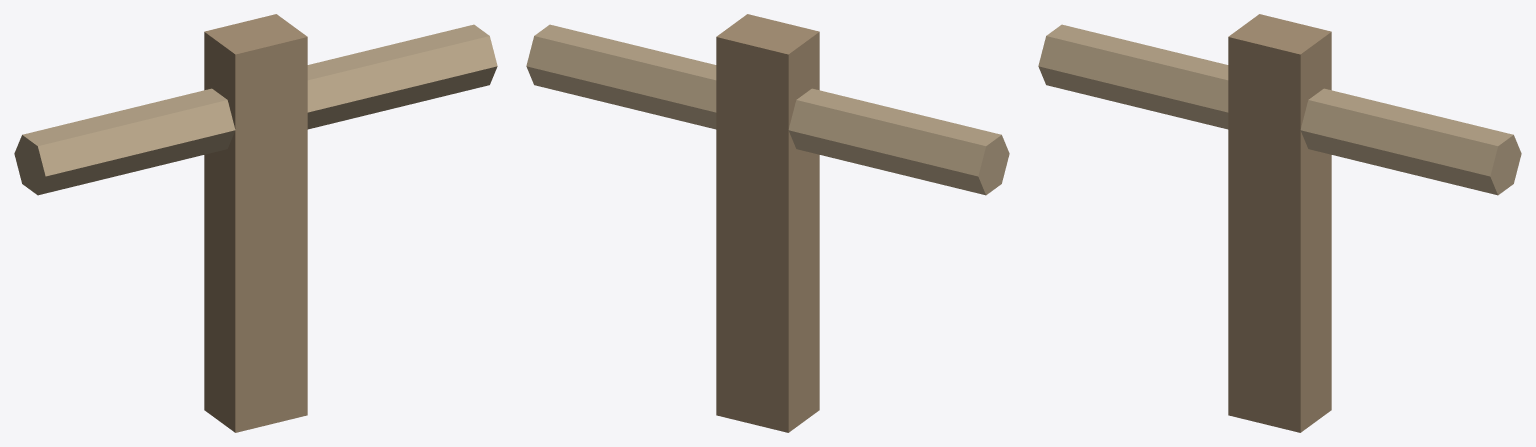
File: latchbow.glb
The picture shows the model from 3 angles, left to right: view 1: azimuth 30°, elevation 25°; view 2: azimuth 150°, elevation 25°; view 3: azimuth 330°, elevation 25°; orthographic projection.
Parts seen in each view (by area): view 1: latchbow; view 2: latchbow; view 3: latchbow.
Part boxes in pixels (<box>): latchbow: <box>14,14,497,432</box>; latchbow: <box>526,14,1009,432</box>; latchbow: <box>1038,14,1521,432</box>.
Bounding box in the file's own units: 0.5 × 0.4 × 0.06.
